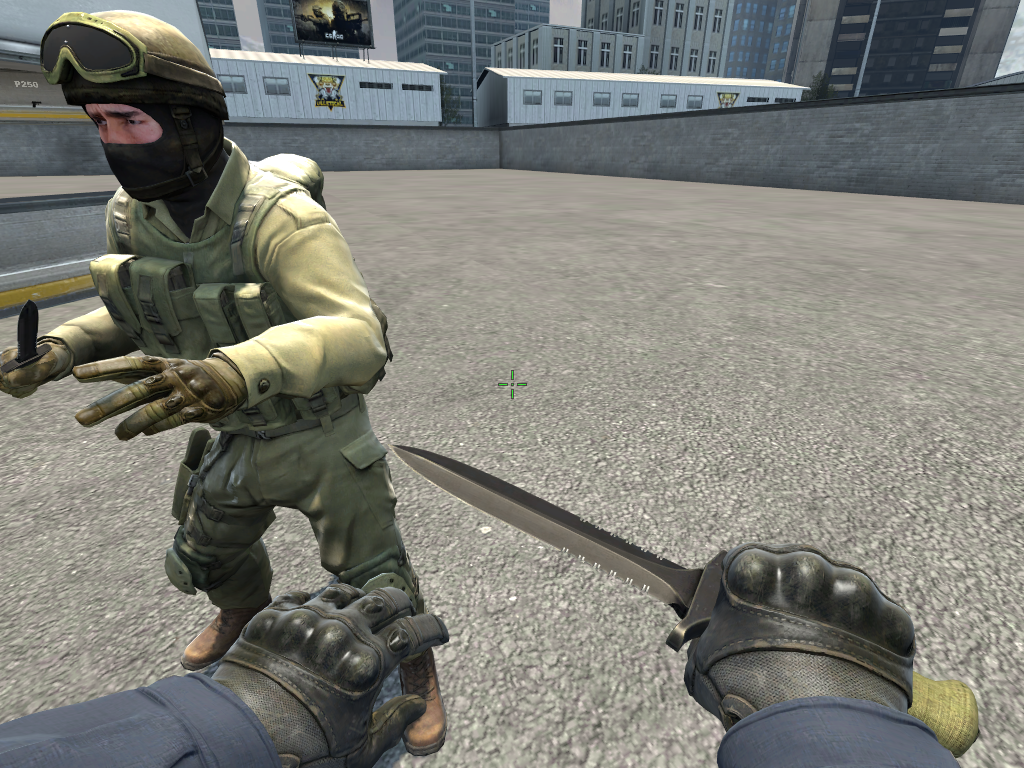ct head: (57, 8, 227, 202)
